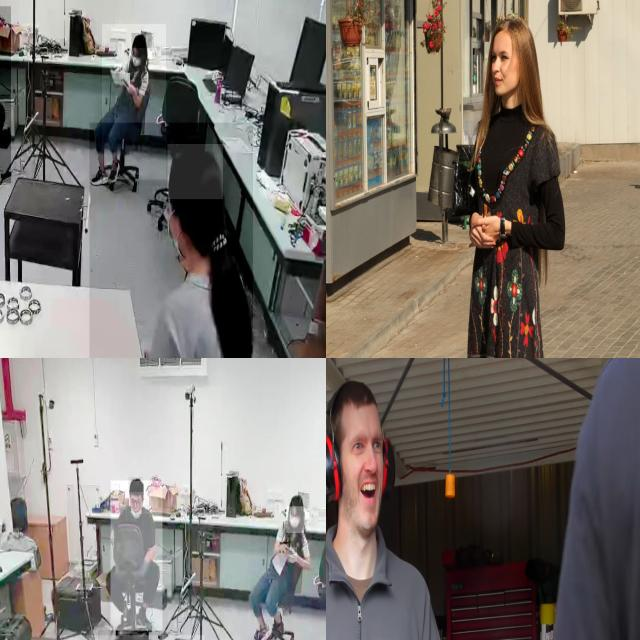Ear-protection: (326, 382, 396, 542)
No_Glasses: (345, 425, 383, 460)
face_mask: (130, 36, 144, 78), (286, 506, 304, 533)
hand_noglove: (125, 81, 137, 96), (288, 547, 298, 563), (280, 542, 288, 554), (114, 64, 122, 75)
head_nohelmet: (168, 144, 224, 200), (128, 477, 144, 493), (288, 493, 304, 508), (132, 33, 146, 49)
person: (89, 122, 253, 358), (102, 24, 166, 180), (248, 492, 312, 640), (111, 480, 163, 630)
shoes: (134, 603, 154, 631), (89, 164, 109, 188), (108, 156, 120, 186), (252, 623, 272, 640), (274, 603, 284, 637)
